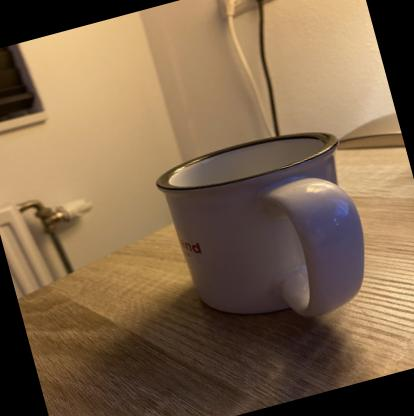Cup: (146, 115, 390, 354)
